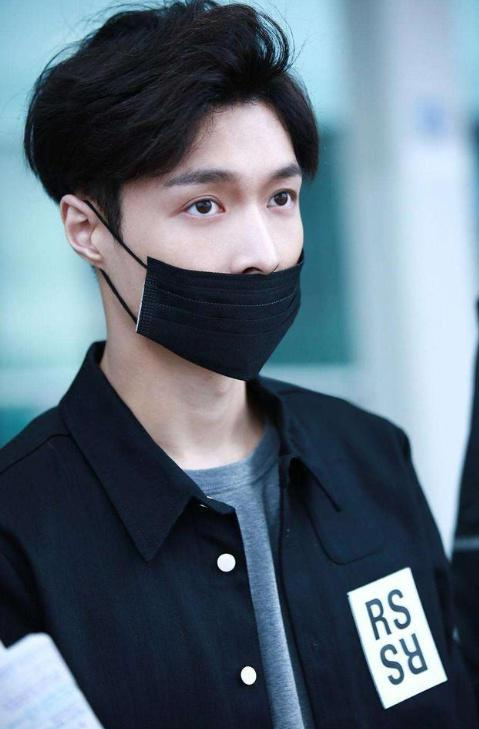WRONG: (126, 137, 305, 379)
